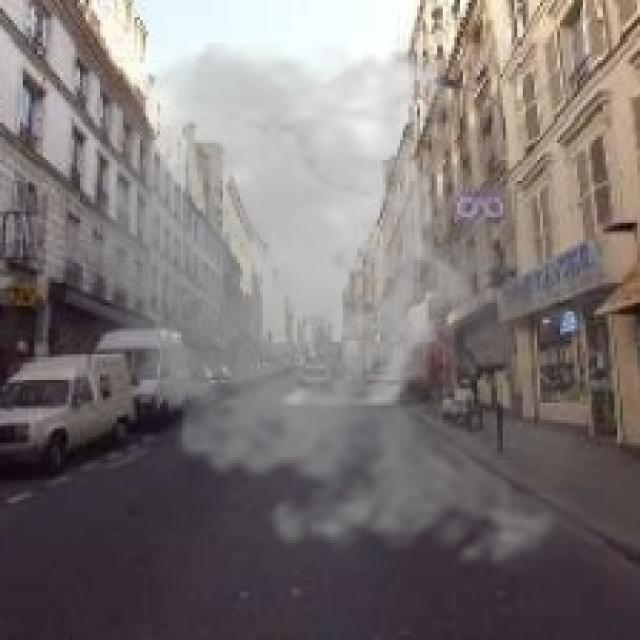Smoke: (51, 37, 620, 583)
